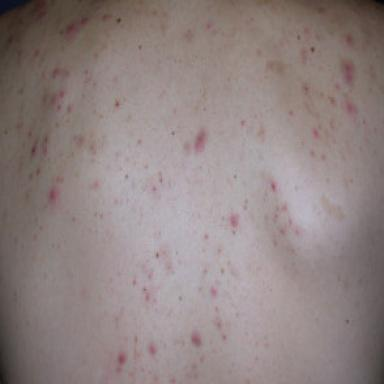acne: (65, 18, 89, 41), (341, 60, 355, 86), (193, 129, 208, 153), (344, 98, 358, 115), (49, 187, 59, 204), (191, 331, 202, 346), (229, 214, 239, 228), (42, 136, 49, 155), (31, 139, 38, 157), (345, 34, 354, 47), (149, 343, 157, 355), (165, 262, 173, 273), (77, 136, 84, 147), (53, 69, 61, 78), (215, 319, 222, 329), (119, 354, 126, 364), (313, 128, 319, 138), (211, 286, 217, 296), (271, 181, 276, 191), (145, 292, 150, 302), (151, 185, 157, 193), (206, 22, 212, 30), (59, 91, 65, 99), (280, 227, 286, 235), (34, 50, 40, 57), (282, 204, 288, 211), (331, 97, 335, 106), (241, 119, 246, 126), (51, 96, 56, 103), (335, 83, 340, 90), (134, 335, 138, 343), (137, 139, 142, 145), (288, 110, 293, 116), (304, 29, 309, 35), (295, 228, 300, 234), (274, 213, 277, 223), (133, 278, 137, 285), (222, 335, 227, 340), (28, 130, 31, 137), (58, 104, 61, 111), (198, 286, 202, 291), (117, 367, 121, 372), (289, 218, 292, 224)
